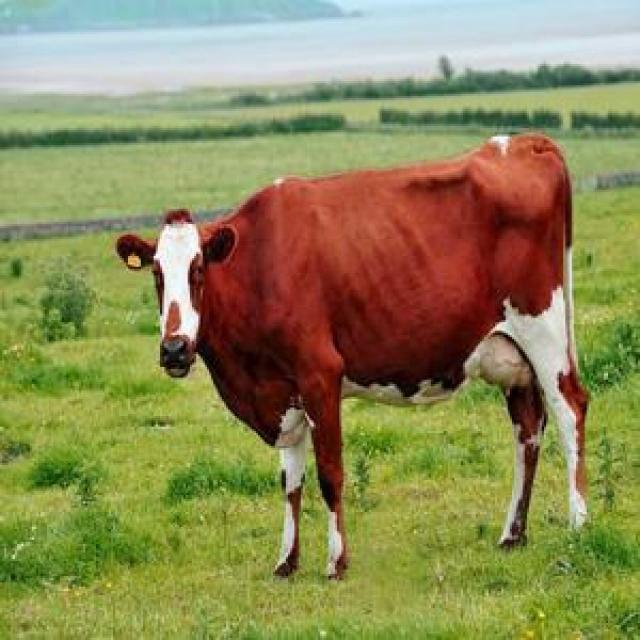cow: (116, 134, 588, 579)
